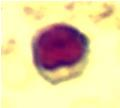lymphocyte: (27, 22, 94, 85)
